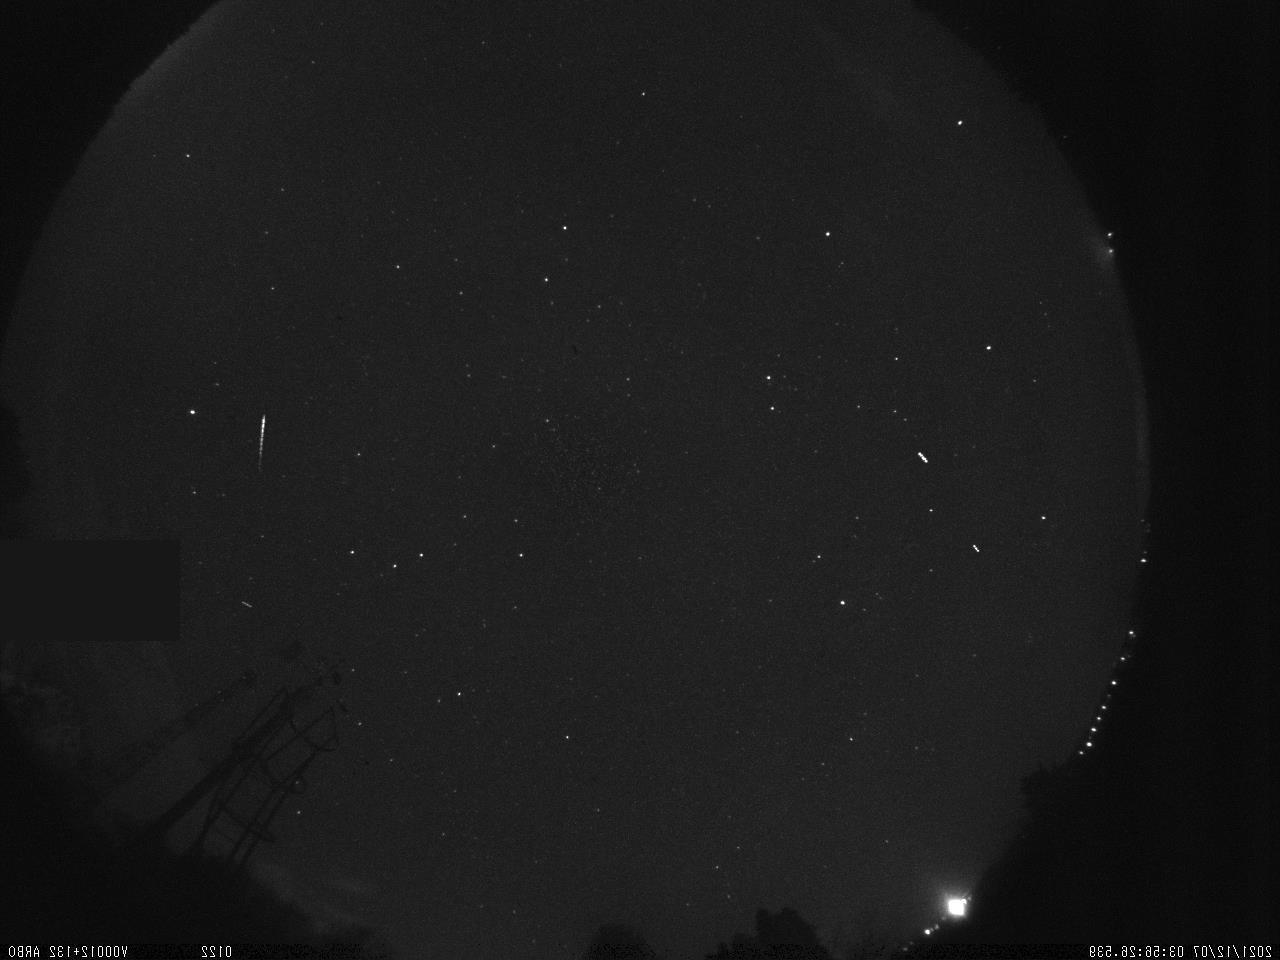meteor: (253, 411, 274, 475)
satelite: (913, 442, 931, 473)
